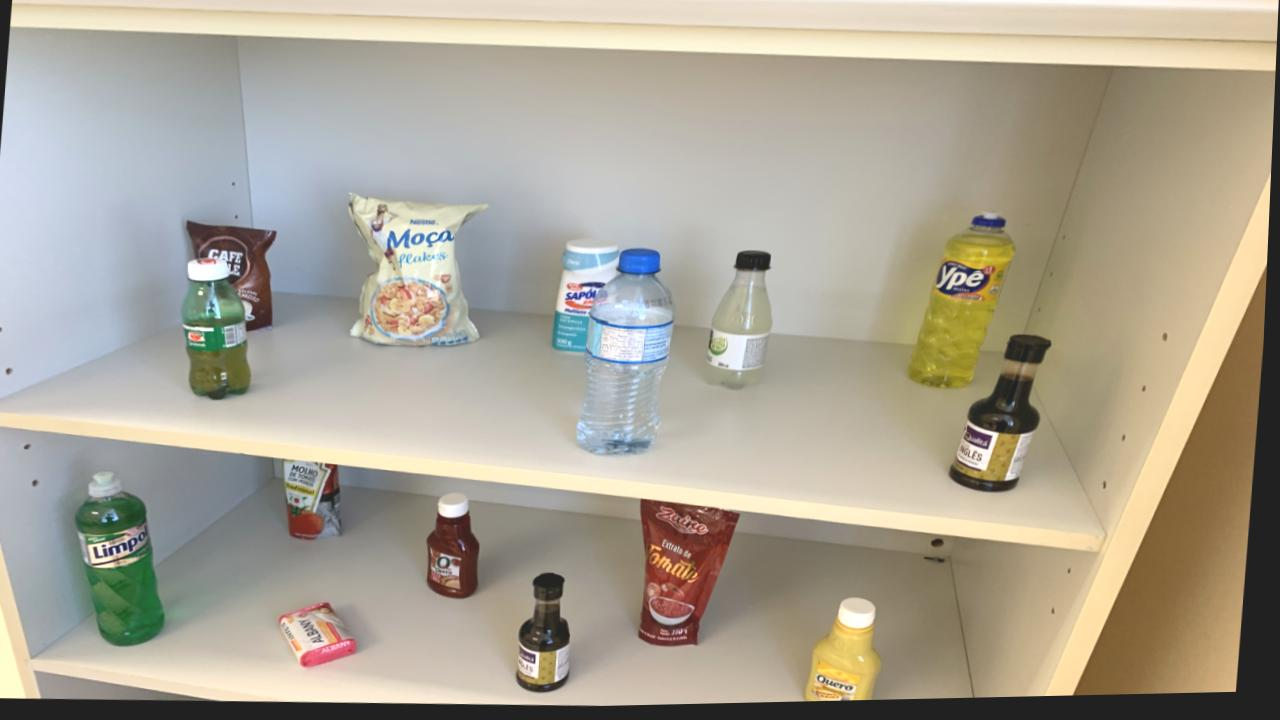Cleaner-Cleanup_Items: (555, 241, 621, 356)
Detergent-Cleanup_Items: (913, 218, 1019, 392), (80, 492, 171, 646)
English_Sauce-Pantry_Items: (953, 341, 1055, 496), (522, 575, 577, 695)
Flakes-Snacks: (350, 196, 490, 348)
Guarana-Drinks: (184, 259, 256, 400)
Ketchup-Pantry_Items: (431, 496, 484, 601)
Mustard-Pantry_Items: (811, 602, 888, 705)
Soap-Cleanup_Items: (284, 605, 362, 668)
Soda-Drinks: (710, 255, 776, 394)
Tomato_Sauce-Pantry_Items: (645, 503, 743, 649), (189, 223, 278, 331), (288, 461, 347, 541)
Water_Bottle-Drinks: (581, 251, 678, 458)
